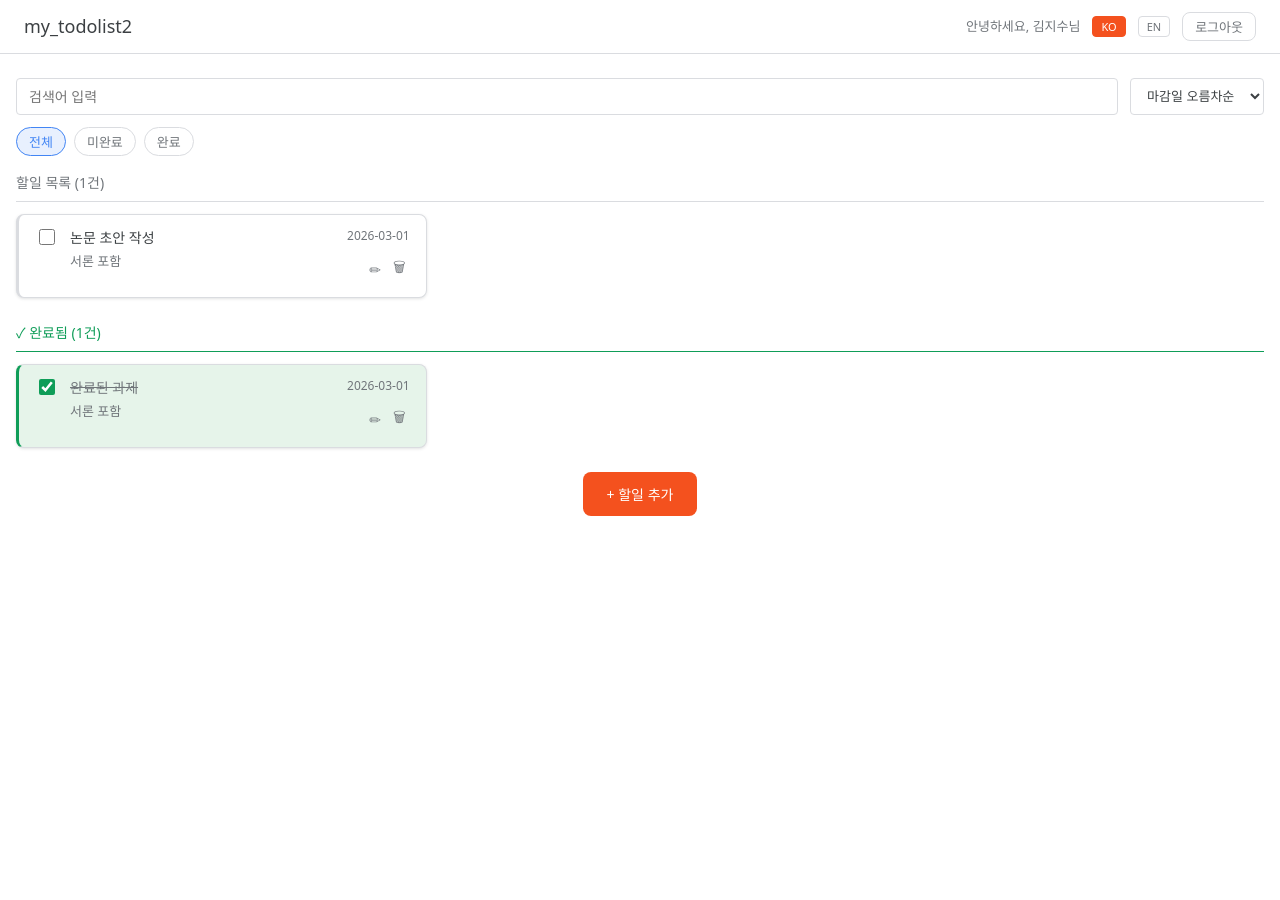
it: FE-09: 할일 수정 › 수정 모달에 기존값이 pre-fill된다
Expected: the text "논문 초안 작성" is shown, [70,228,155,247]
Click the button named "수정" at (375, 269), box [365,253,385,285]
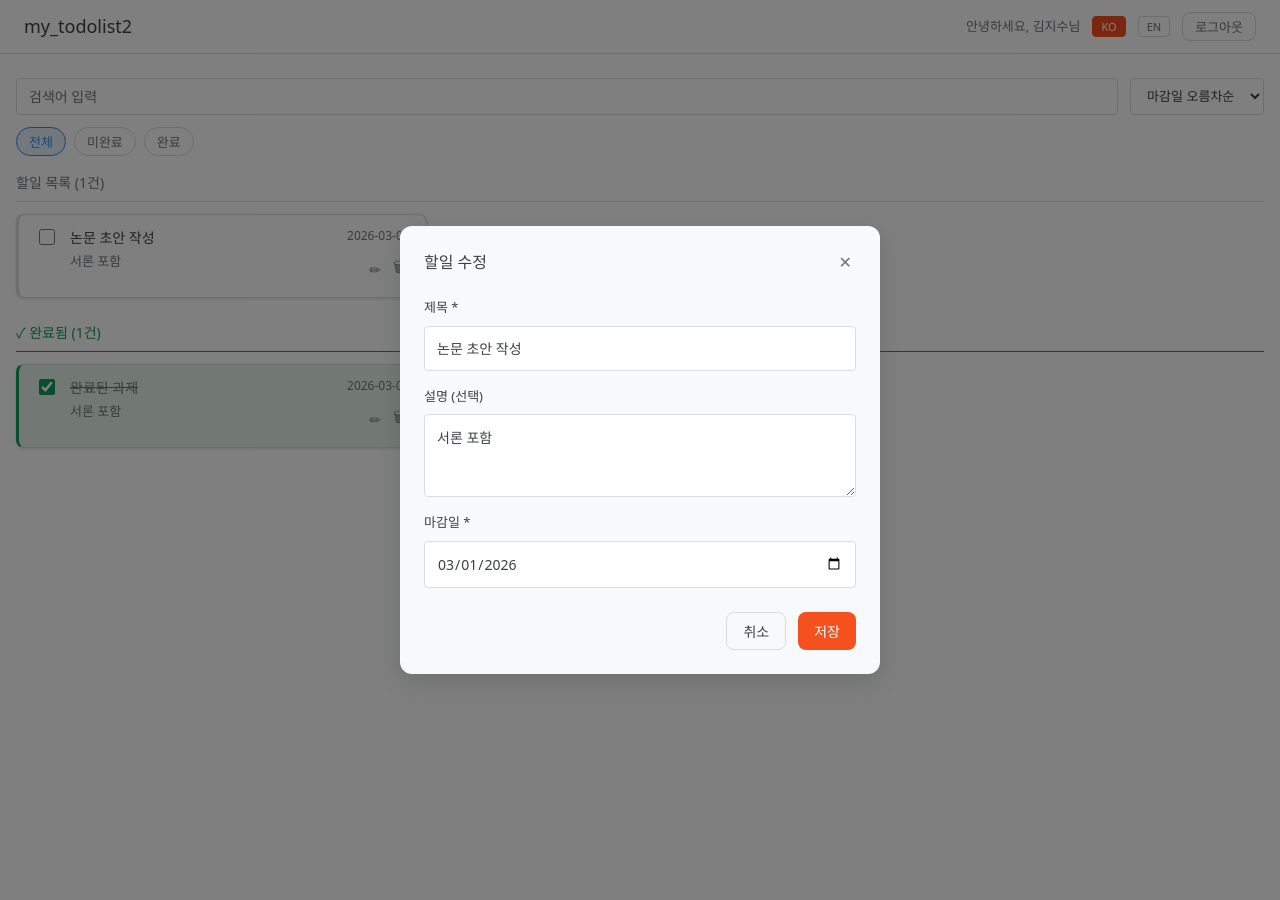
Now the field showing "논문 초안 작성" is shown, box [424,326,856,371]
Now the text box showing "서론 포함" is shown, box [424,414,856,497]
Now the date field showing "2026-03-01" is shown, box [424,541,856,588]
